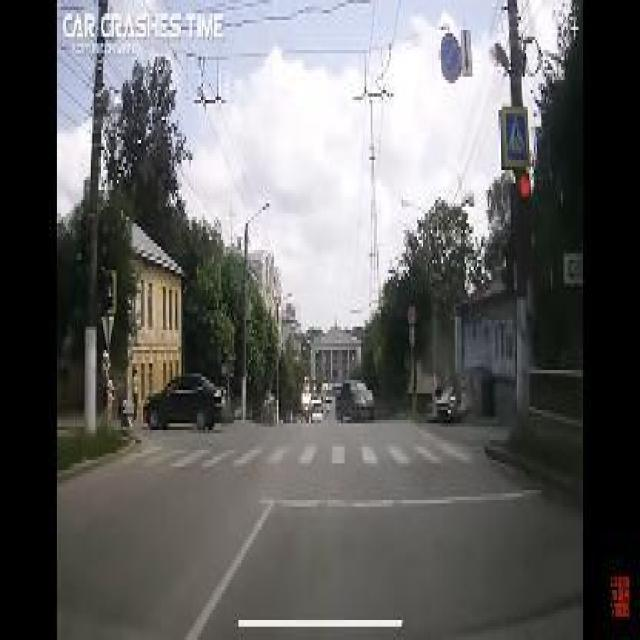accident: (429, 324, 491, 444)
